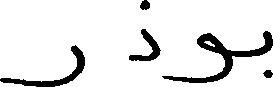X: (164, 28, 231, 86), (0, 40, 83, 86), (130, 0, 157, 65), (264, 26, 272, 82)
